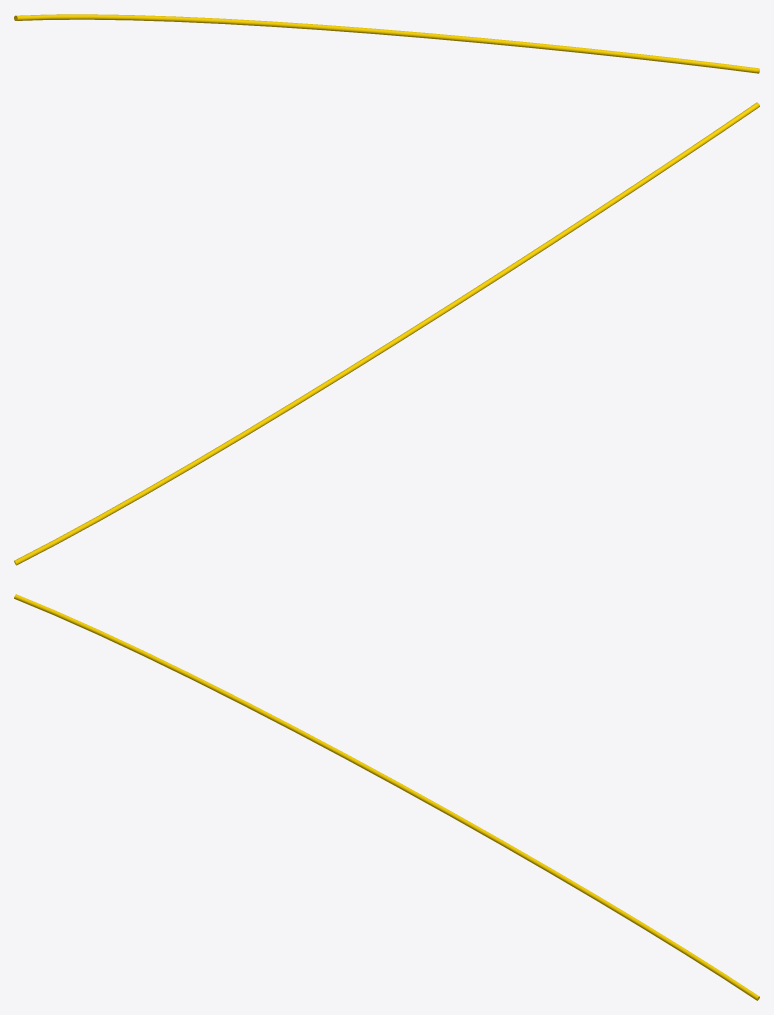
The model's file is Event_420107950_track_16.fbx.
3 renders of one model, top to bottom at view 1: azimuth 30°, elevation 25°; view 2: azimuth 210°, elevation 25°; view 3: azimuth 330°, elevation 25°, orthographic. The views are drawn at different scales.
Visible parts, largest first — view 1: Model; view 2: Model; view 3: Model.
Boxes of the visible parts, bbox=[...] form: Model: bbox=[14, 14, 759, 73]; Model: bbox=[14, 102, 759, 565]; Model: bbox=[14, 594, 759, 1000].
Size of the model in its own units: 6.52 by 2.12 by 0.4335.
